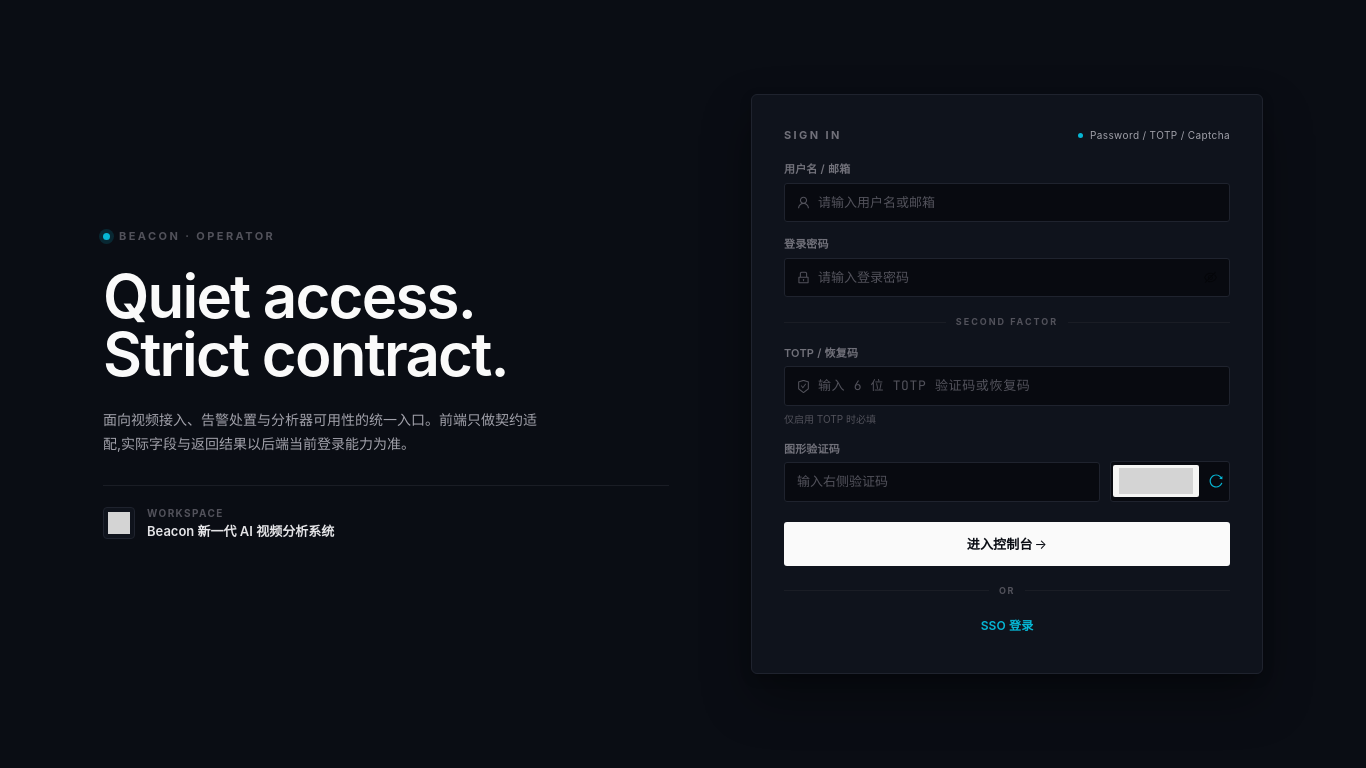
Test case: LoginPage › hydrates backend login capabilities and submits the aligned login contract
Check: the field labelled "图形验证码" is shown, box [784,462,1100,502]
Type "ops-user" into the field labelled "用户名 / 邮箱" at {"x": 1017, "y": 203}, box [818,193,1217,212]
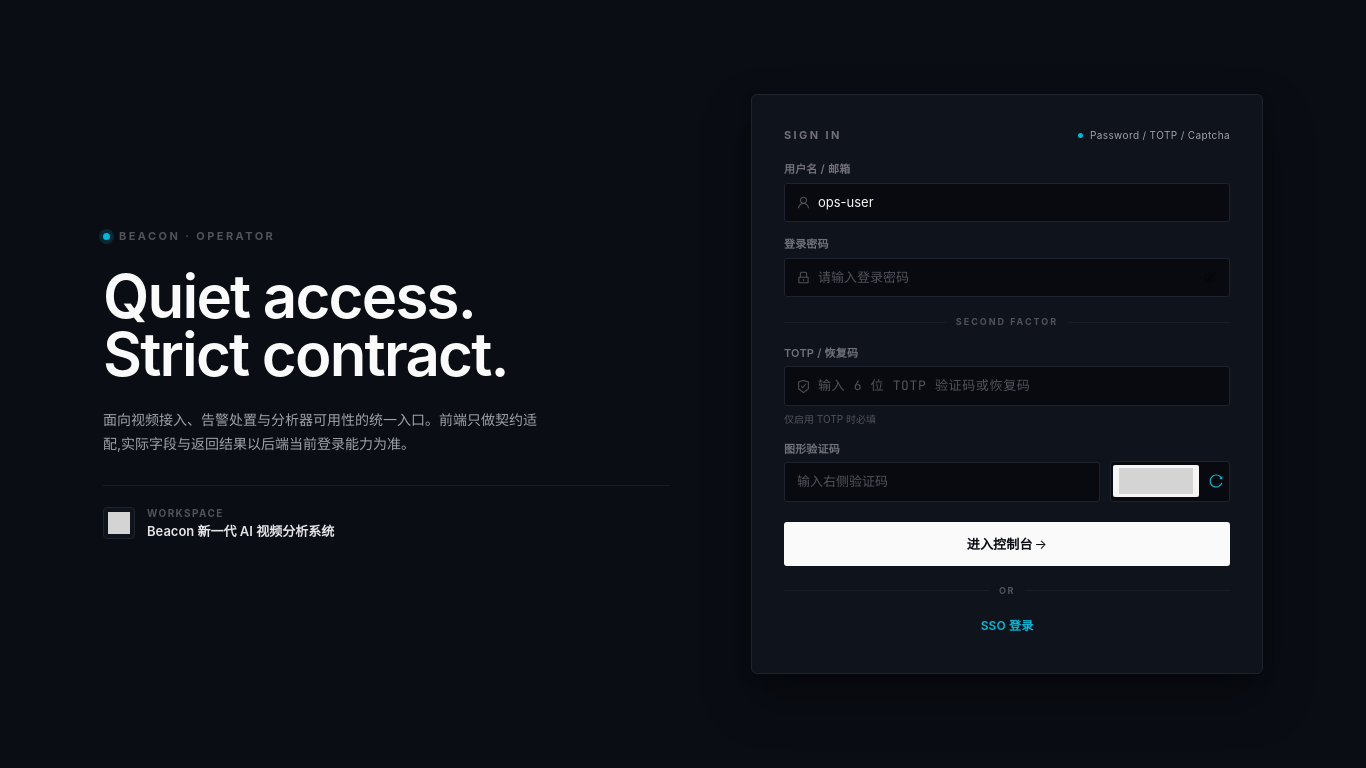
Type "Secret123" into the password field labelled "登录密码" at {"x": 1009, "y": 278}, box [818,268,1200,287]
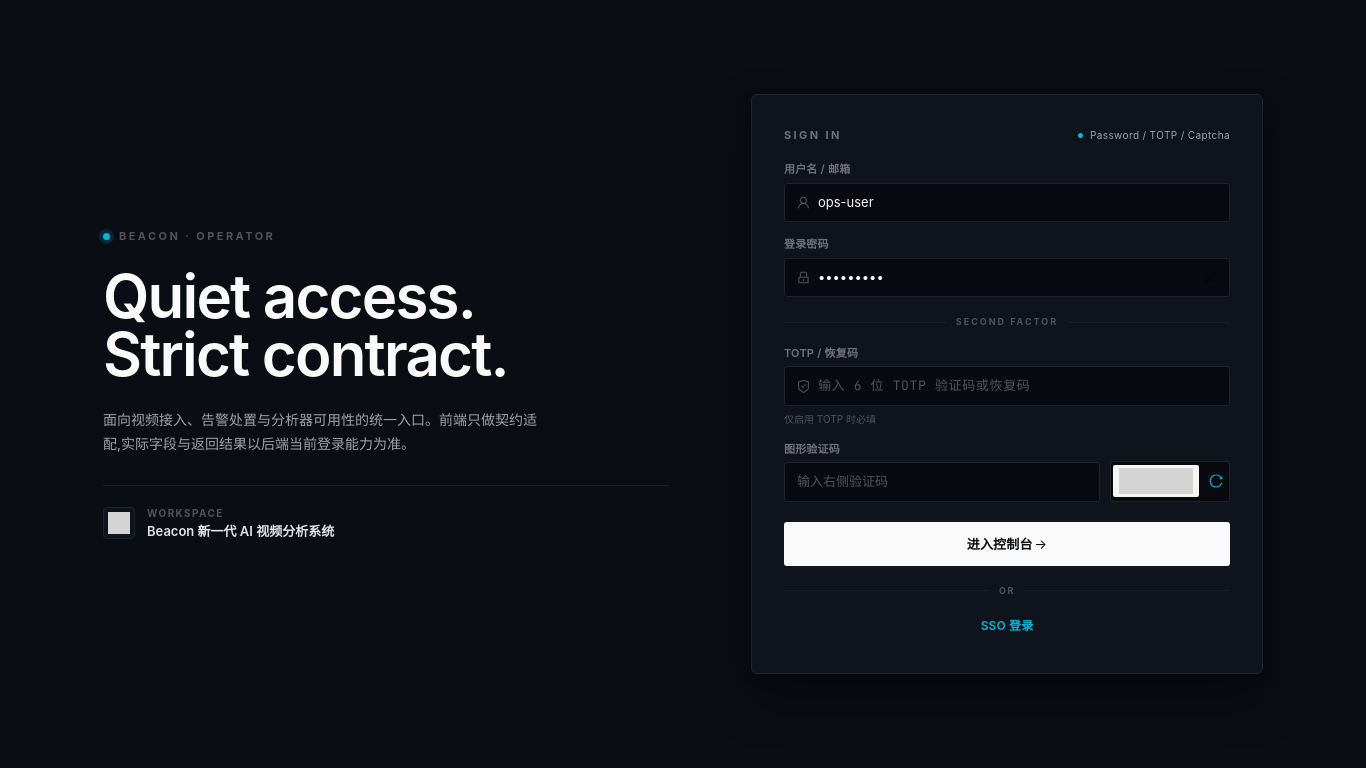
Type "654321" into the field labelled "TOTP / 恢复码" at {"x": 1017, "y": 386}, box [818,376,1217,396]
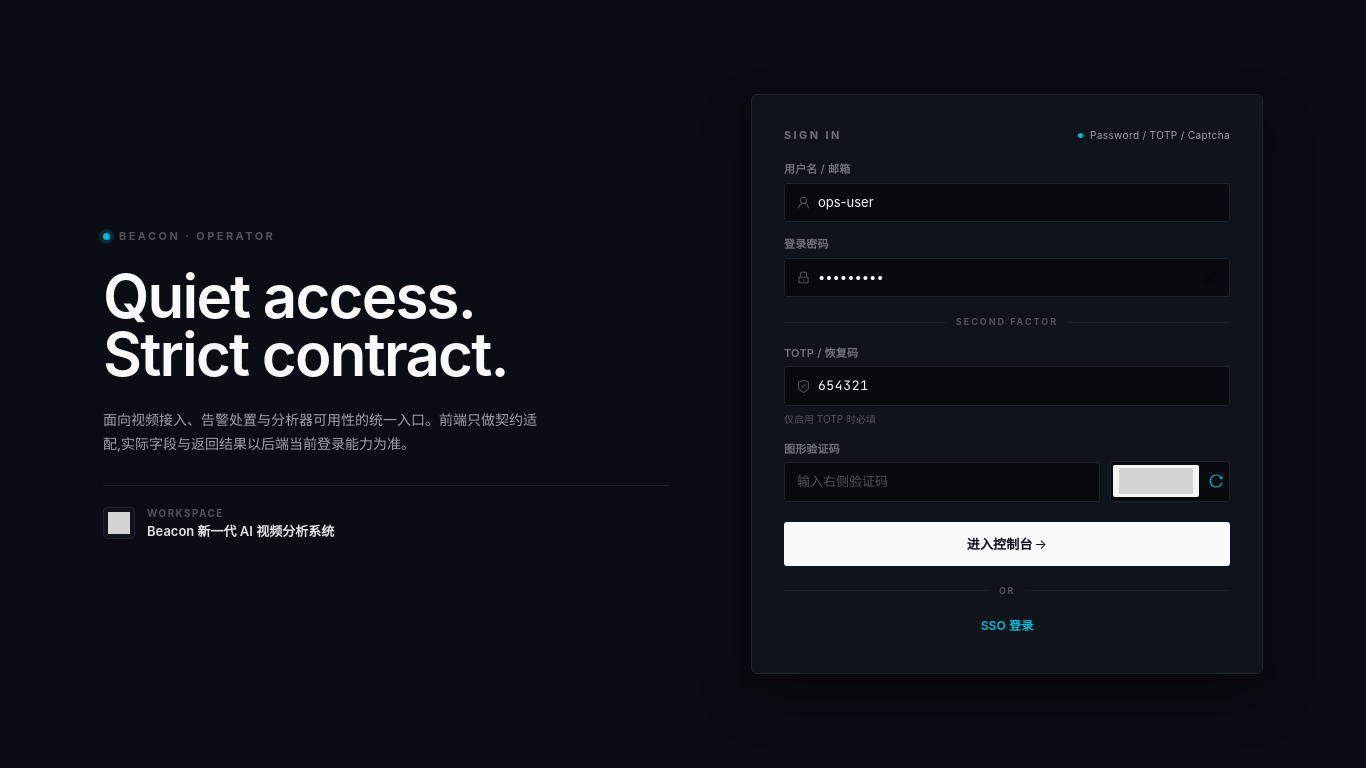
Type "1234" into the field labelled "图形验证码" at {"x": 942, "y": 482}, box [784,462,1100,502]
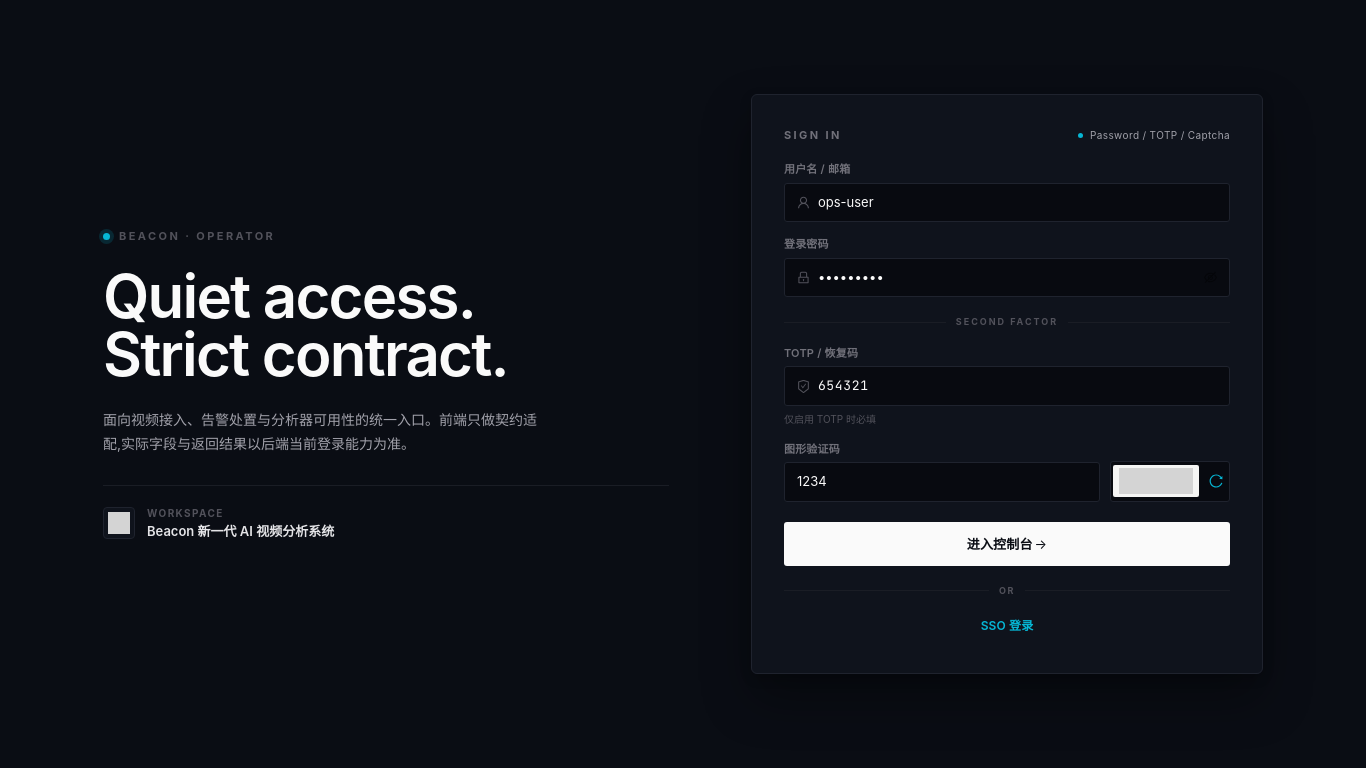
Click the button "进入控制台→" at {"x": 1007, "y": 544}, box [784,522,1230,566]
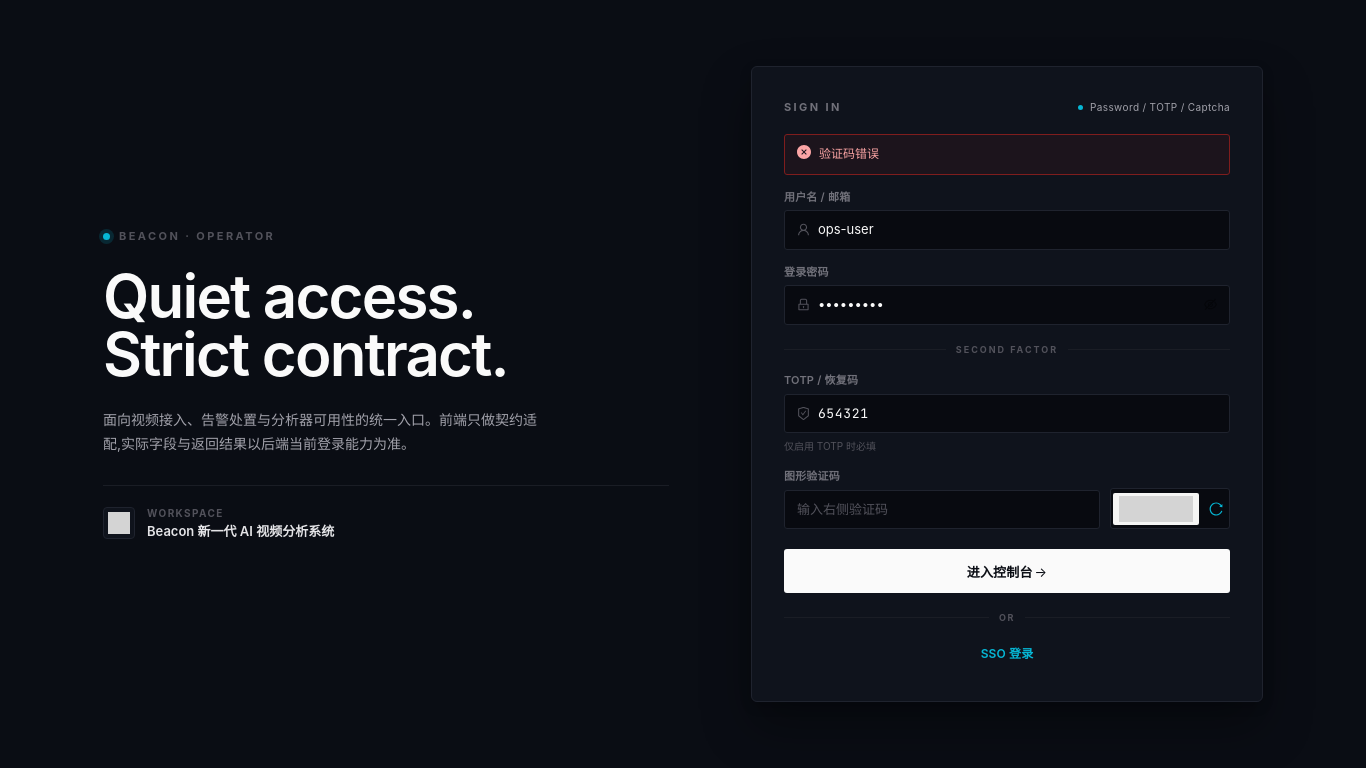
Check: the text "验证码错误" is shown, box [819,146,879,161]
